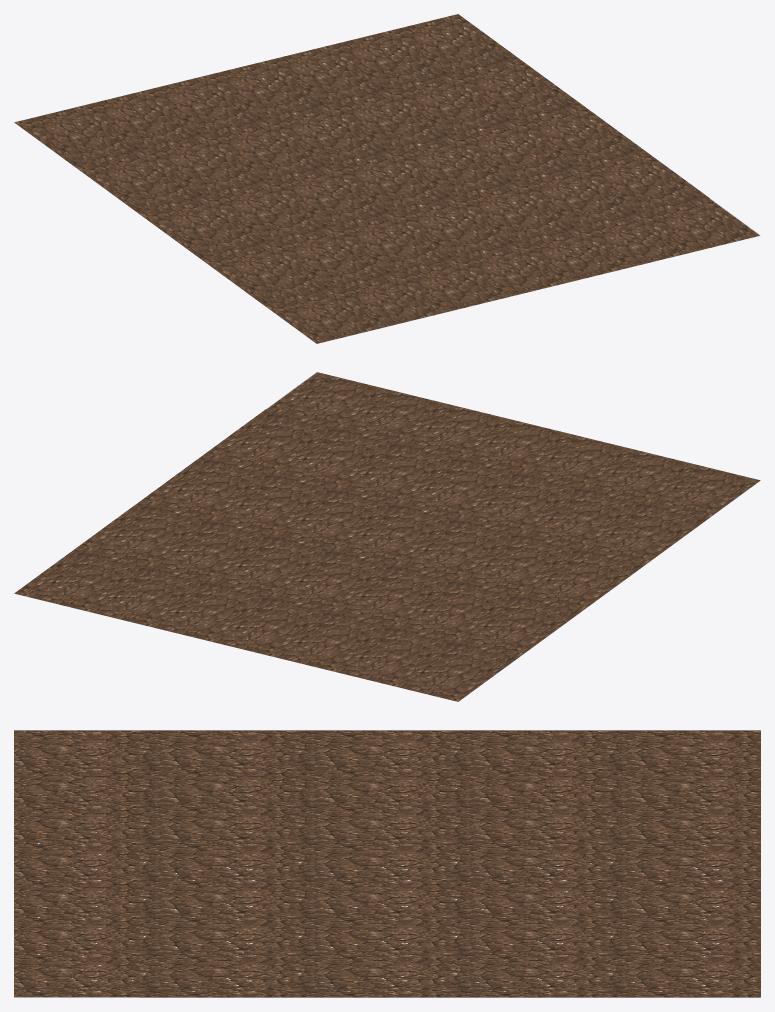
File: ground.obj
3 views of the same model, one above another, from view 1: azimuth 30°, elevation 25°; view 2: azimuth 150°, elevation 25°; view 3: azimuth 270°, elevation 25° (orthographic). The views are drawn at different scales.
Visible parts, largest first — view 1: Plane002; view 2: Plane002; view 3: Plane002.
Boxes of the visible parts, x1,y1,x2,y2 form: Plane002: [14, 14, 760, 343]; Plane002: [14, 372, 760, 701]; Plane002: [14, 730, 760, 997].
Size of the model in its own units: 484948 by 0 by 572335.
Materials: 1 (1 with a texture image).
